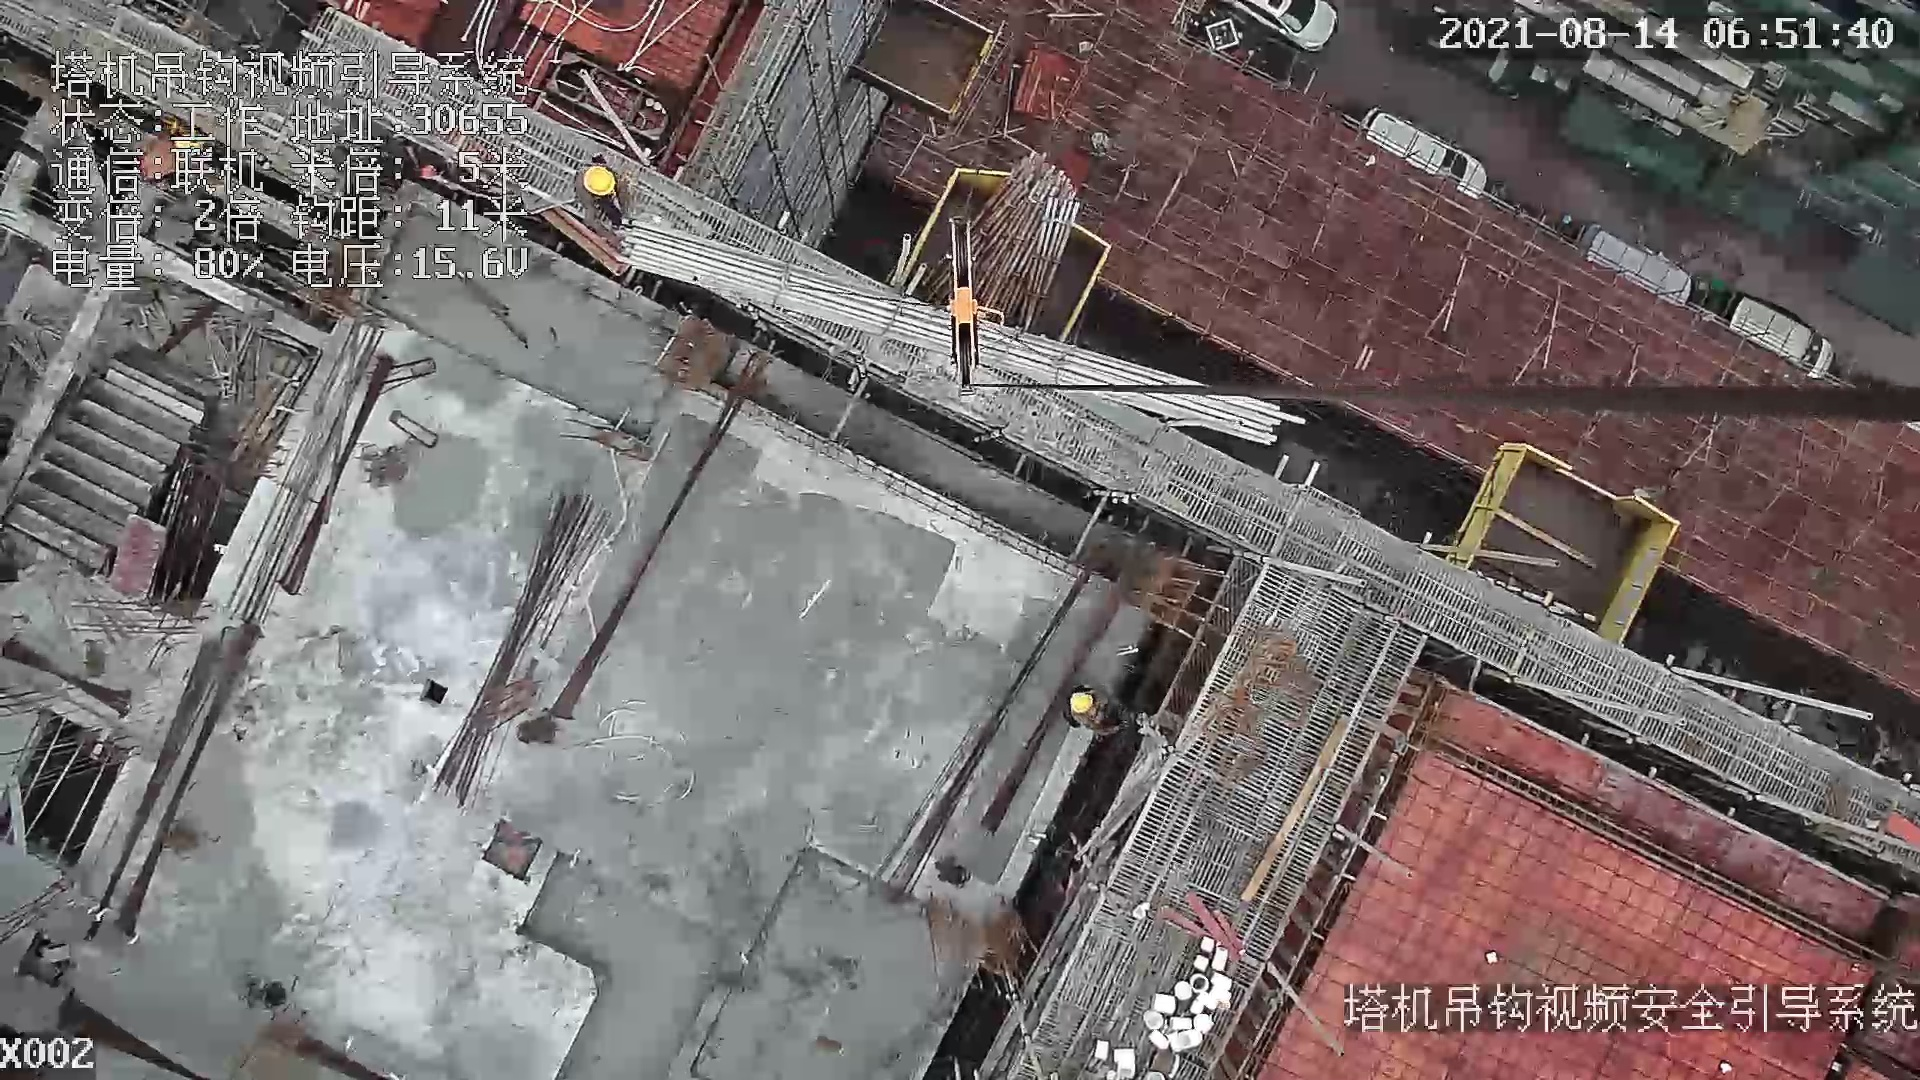helmet: (581, 166, 617, 197), (1069, 691, 1095, 714)
hook: (937, 213, 1017, 401)
person: (568, 153, 640, 246), (1062, 681, 1145, 742)
rebar: (620, 220, 1305, 446), (429, 495, 608, 808)
scaffold: (971, 151, 1079, 335)
